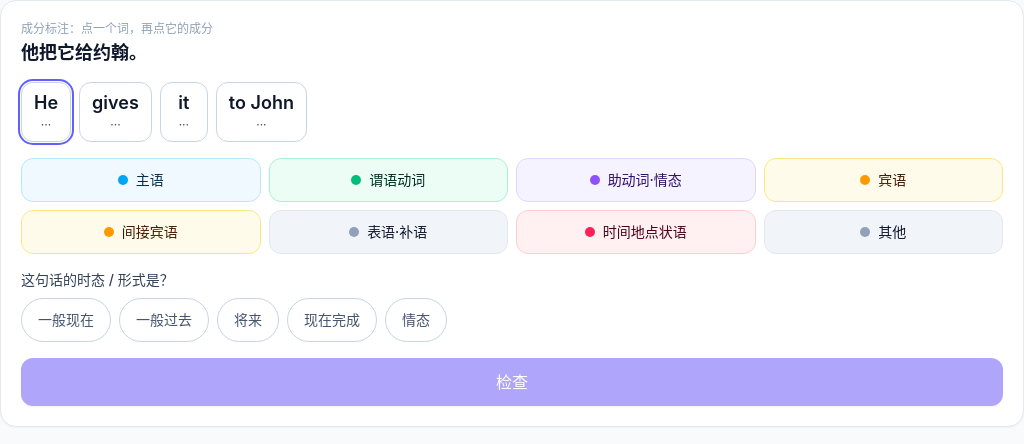
Test: LabelDrill › lets the learner pick a token to relabel before checking
The width and height of the screenshot is (1024, 444).
Click the button "宾语".
click(883, 180)  # box [764,158,1003,202]
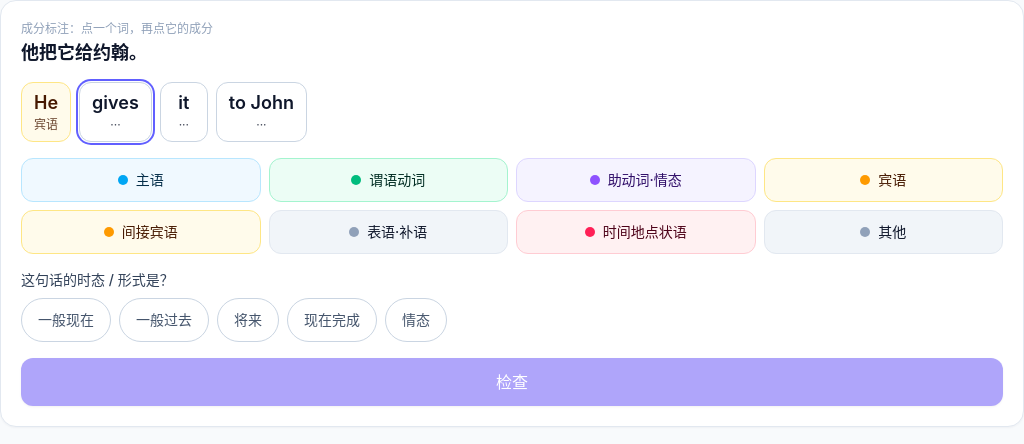
Click the button with aria-label "He，已选宾语".
click(46, 112)  # box [21,82,71,142]
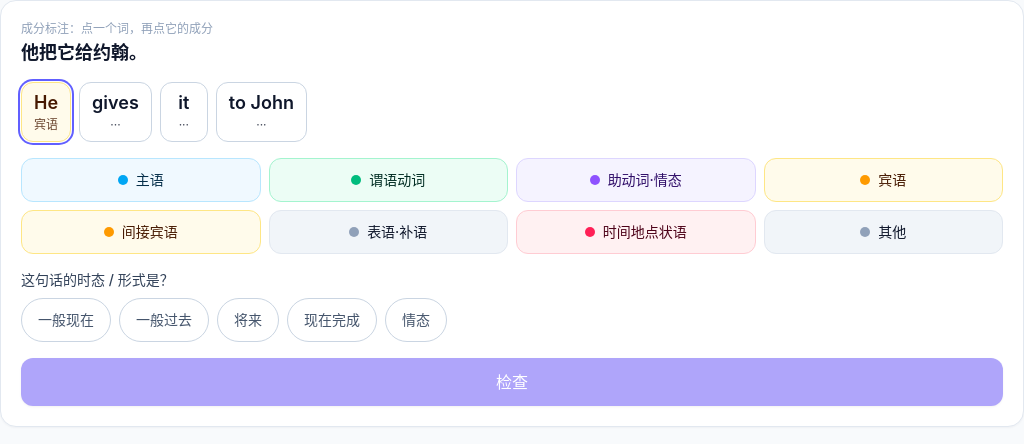
Click the button "主语".
click(141, 180)  # box [21,158,260,202]
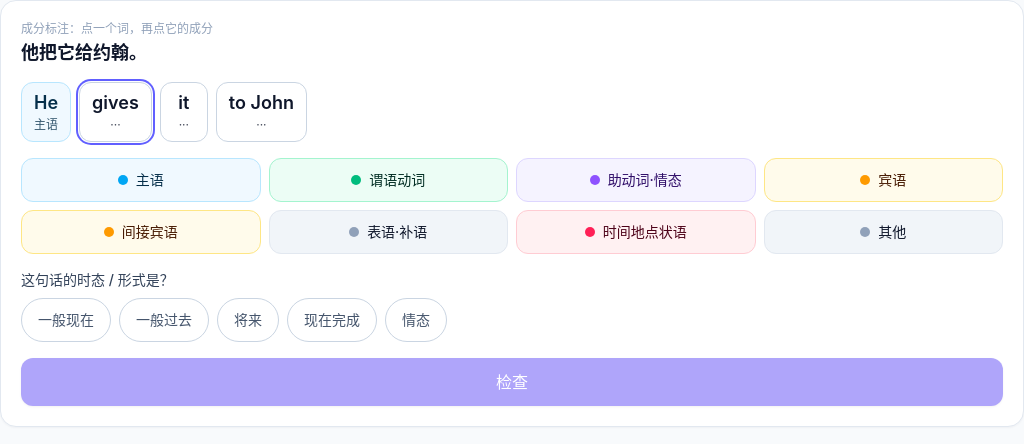
Result: the button with aria-label "He，已选主语" is shown at [21,82,71,142]
